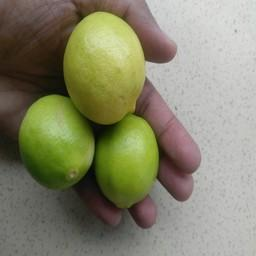Good_lime: (60, 12, 147, 125), (23, 87, 92, 187), (93, 116, 159, 209)
